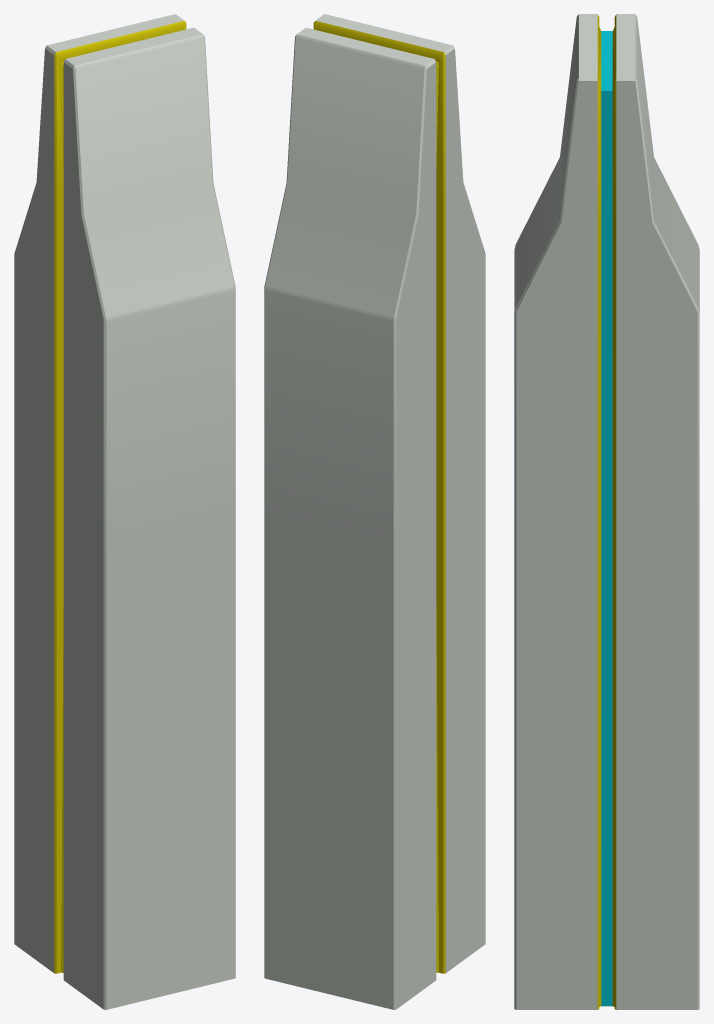
Rendered from tower_small.fbx.
3 views of the same model, side by side, from view 1: azimuth 30°, elevation 25°; view 2: azimuth 150°, elevation 25°; view 3: azimuth 270°, elevation 25° (orthographic).
Parts seen in each view (by area): view 1: tower_small; view 2: tower_small; view 3: tower_small.
Boxes of the visible parts, box(x1,y1,x2,y2) form: tower_small: box(14, 14, 235, 1009); tower_small: box(264, 14, 485, 1009); tower_small: box(514, 14, 699, 1009).
Bounding box in the file's own units: 750 × 5000 × 900.
